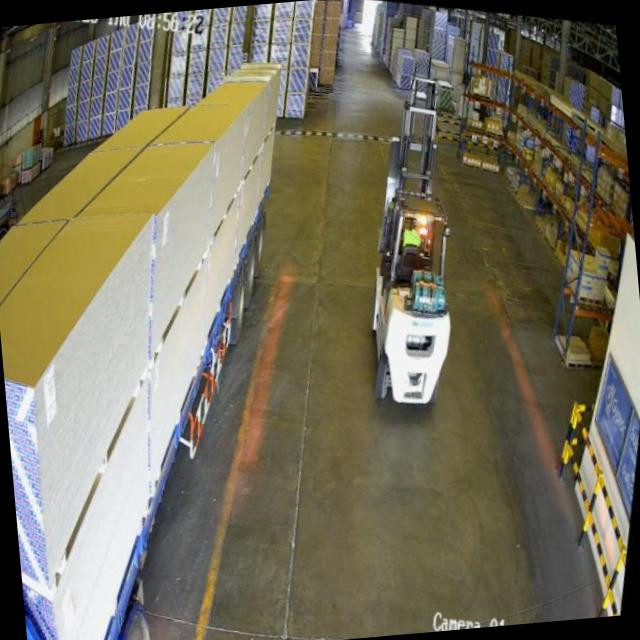driver: (392, 210, 431, 267)
forklift: (338, 159, 491, 424)
